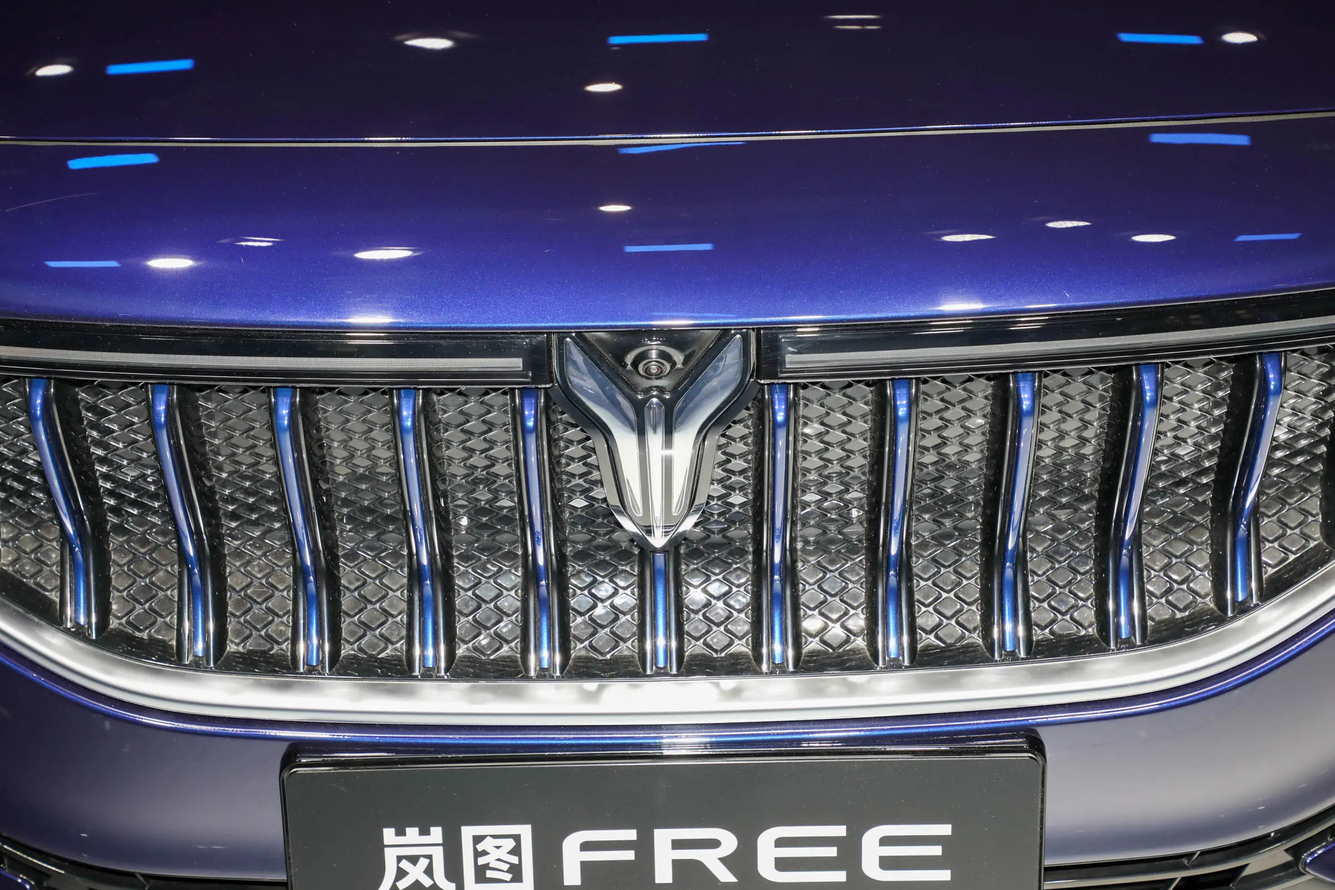VOYAH: (564, 334, 743, 546)
